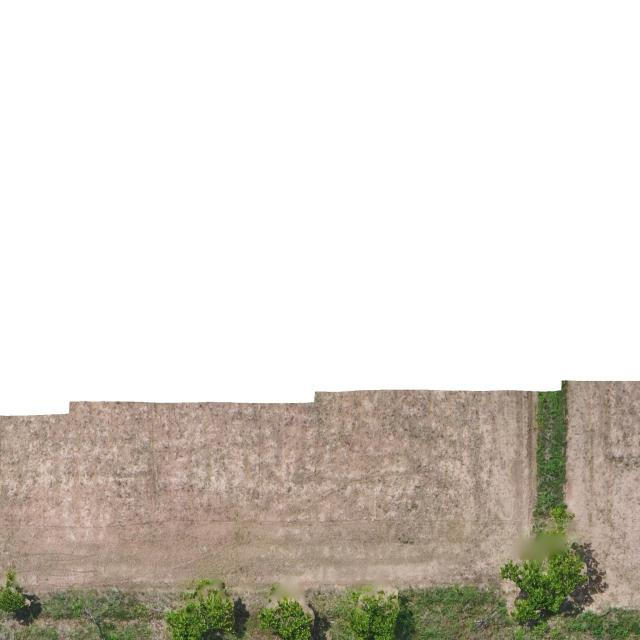tree: (499, 547, 586, 625), (163, 575, 236, 640), (255, 585, 314, 640), (342, 584, 398, 640), (0, 566, 27, 613)
